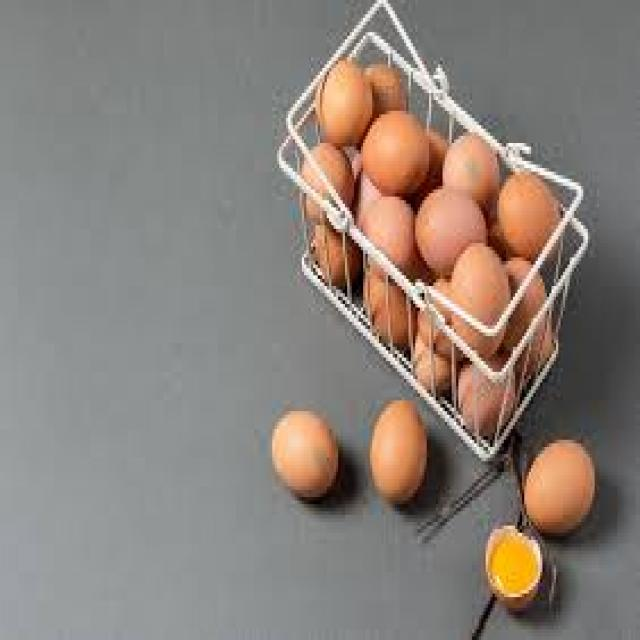Egg: (527, 440, 598, 536), (370, 400, 429, 504), (272, 411, 340, 501), (363, 111, 431, 197)
